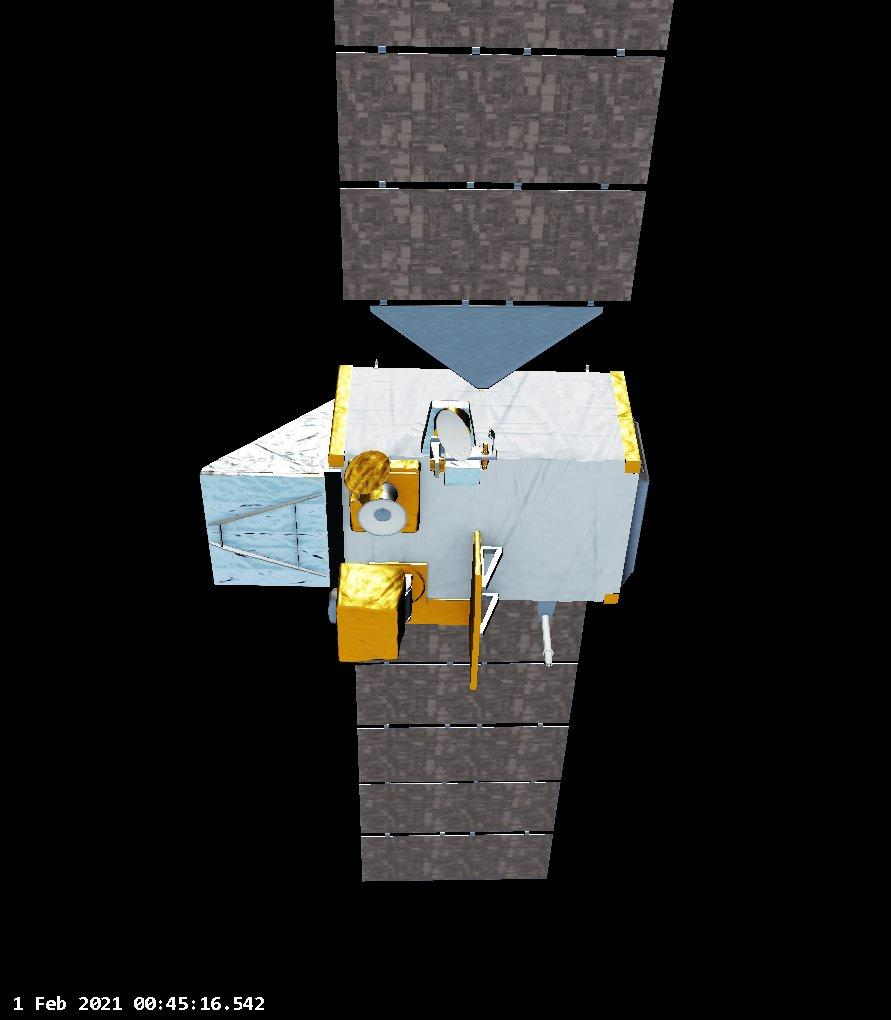antenna: (357, 490, 409, 540), (432, 405, 476, 462), (317, 573, 354, 627)
body: (186, 354, 666, 676)
solar: (327, 0, 683, 390), (338, 571, 599, 894)
